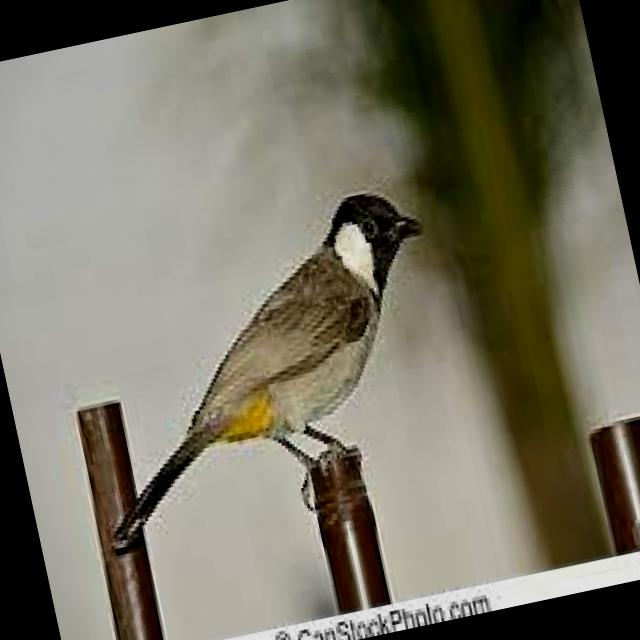bird: (30, 170, 482, 560)
